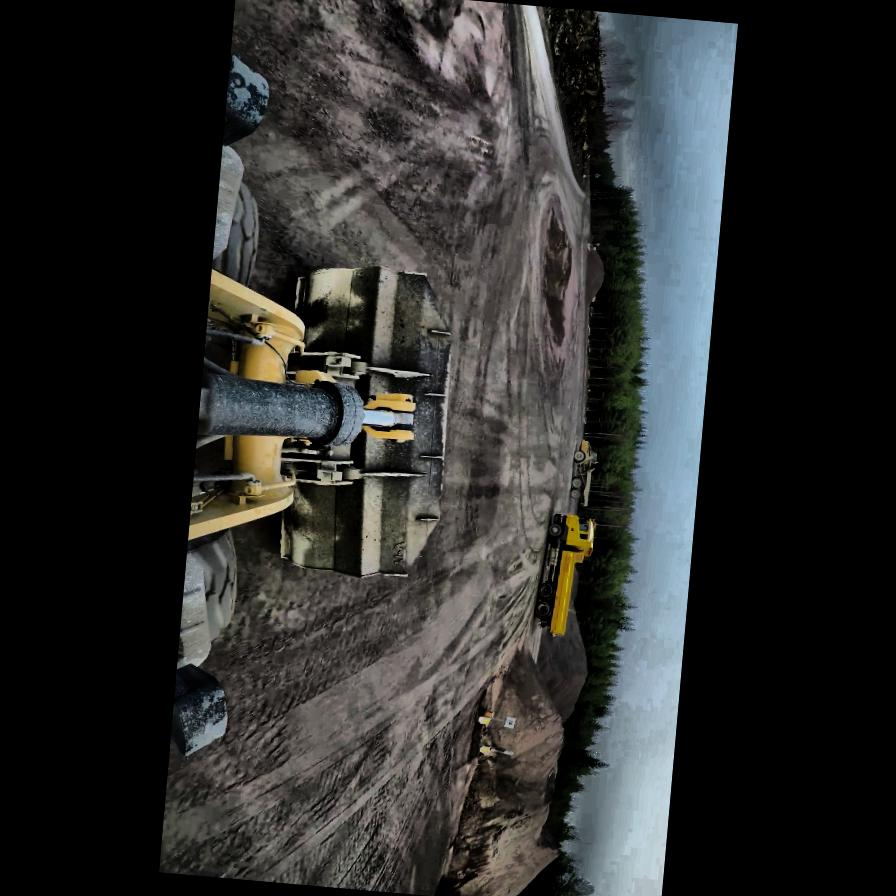anchor: (358, 390, 417, 442)
pile of gravel: (442, 645, 581, 896), (532, 604, 593, 726), (584, 248, 606, 306), (568, 564, 580, 610)
